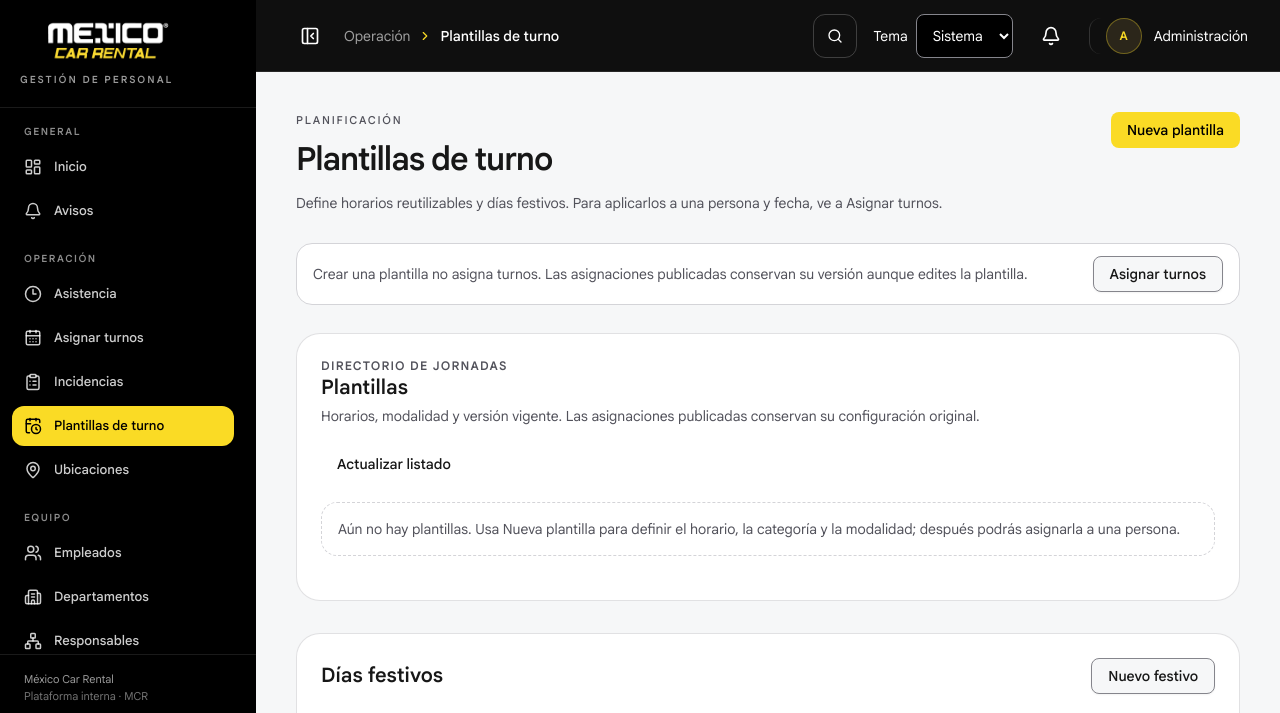
Test case: asignación comprensible de turnos › permite ir de plantillas a asignaciones sin crear un turno
Check: the heading "Plantillas de turno" is shown, box [296,138,552,178]
Click the 1st link "Asignar turnos" at {"x": 1158, "y": 274}, box [1092,256,1223,292]
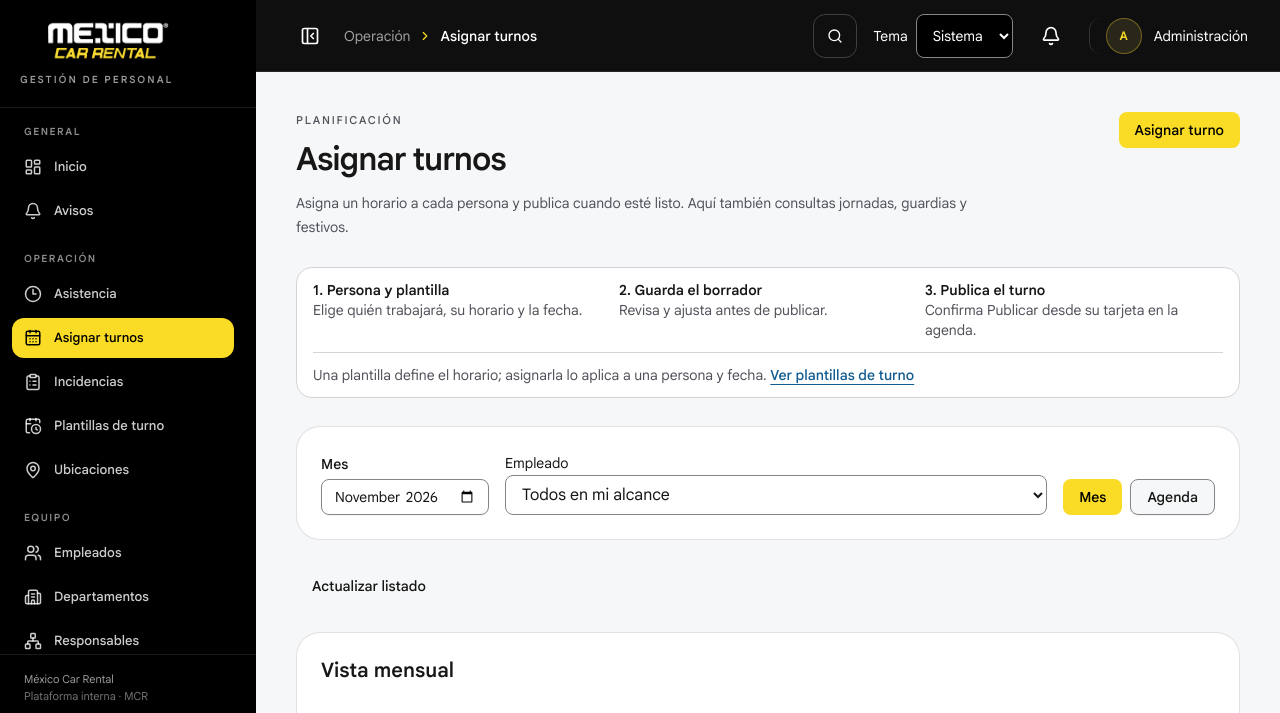
Check: the heading "Asignar turnos" is shown, box [296,138,506,178]
Check: the button "Asignar turno" is shown, box [1119,112,1240,148]
